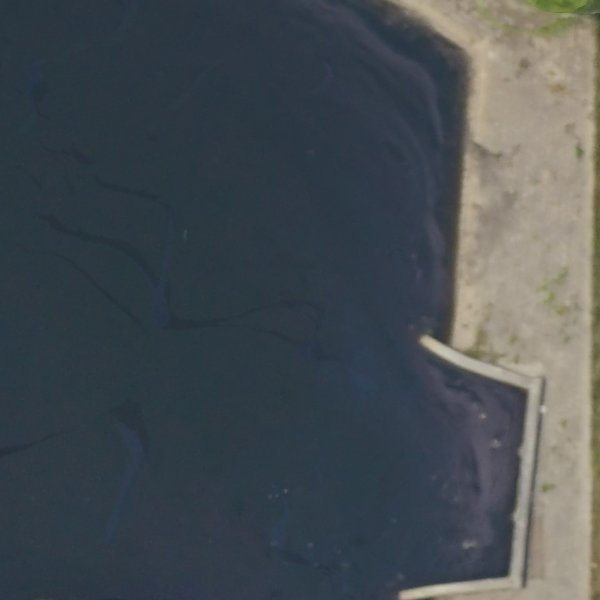Type1: (387, 332, 572, 600)
